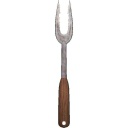fork: (48, 1, 94, 128)
